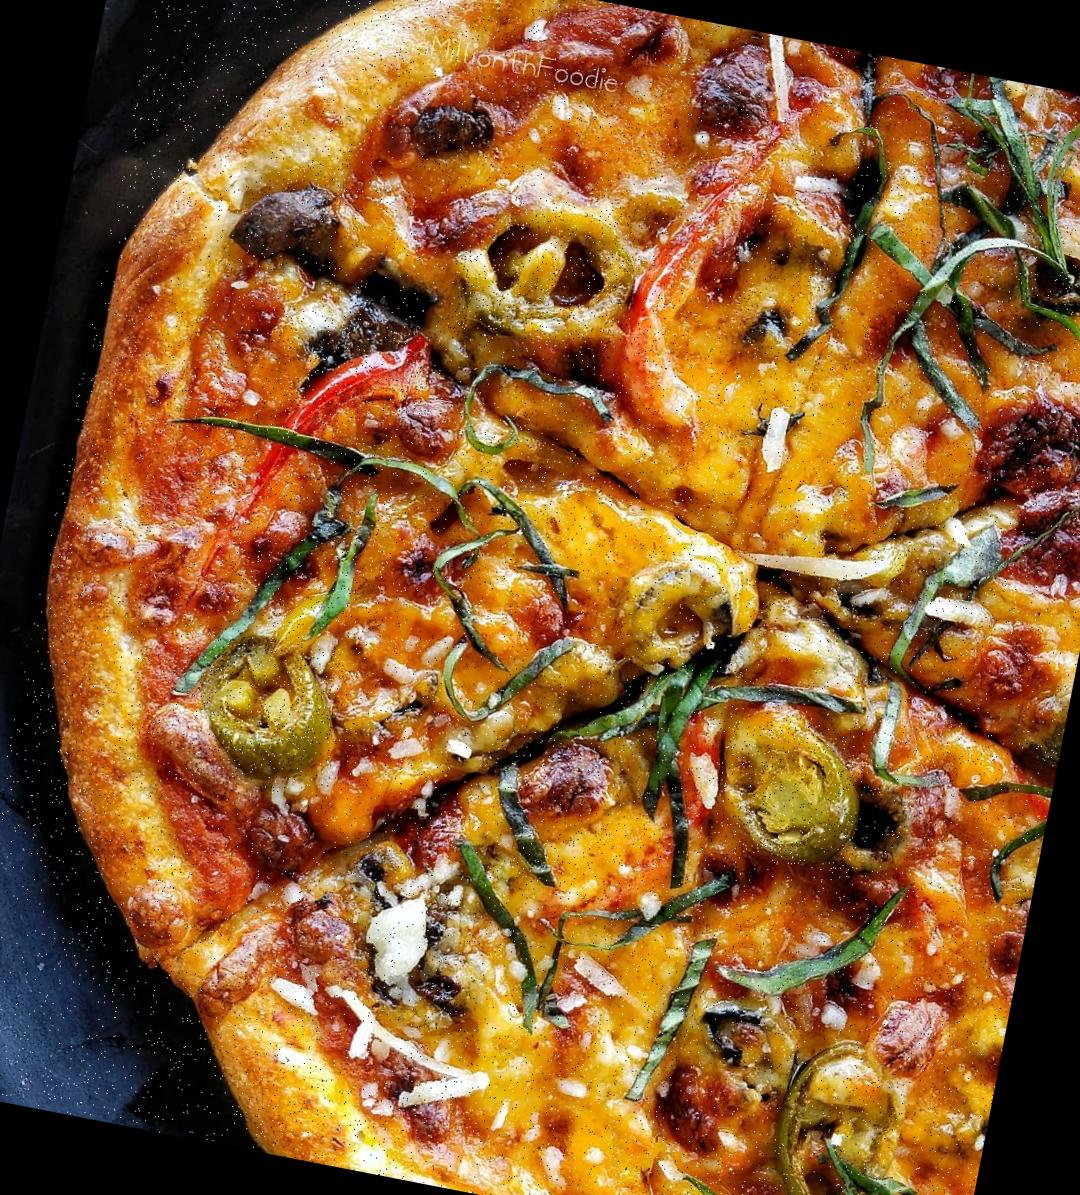Peppers: (177, 293, 434, 642), (600, 92, 795, 438), (444, 184, 639, 362), (704, 706, 878, 881), (754, 1028, 917, 1195), (184, 627, 349, 790)
Pizza: (0, 0, 1080, 1195)
